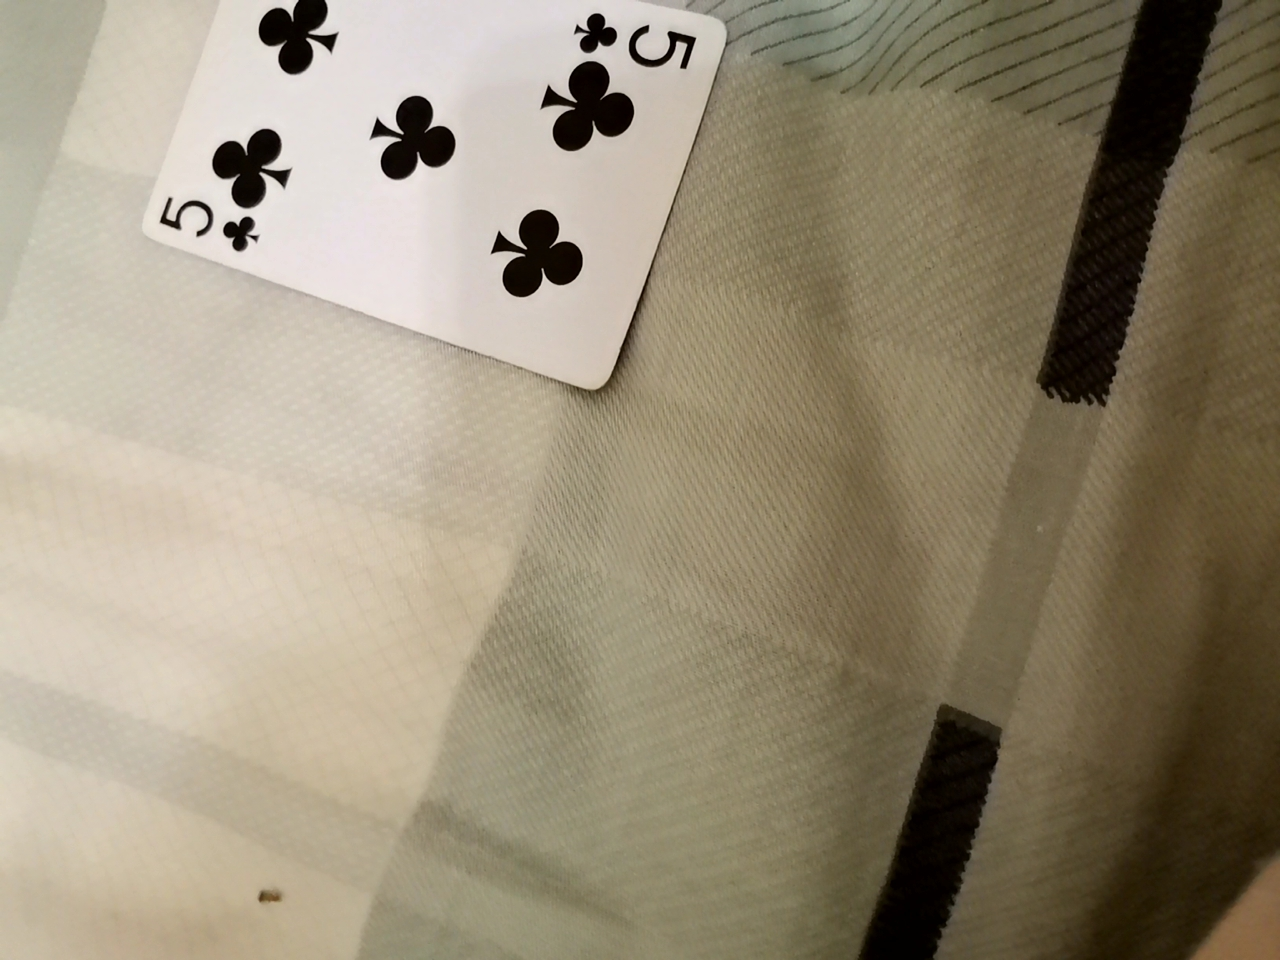mh 5: (142, 1, 728, 387)
